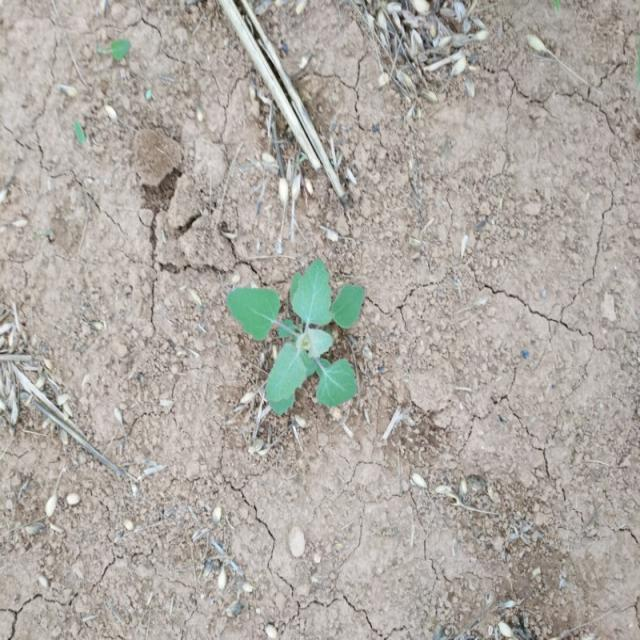goosefoots: (226, 250, 376, 436)
